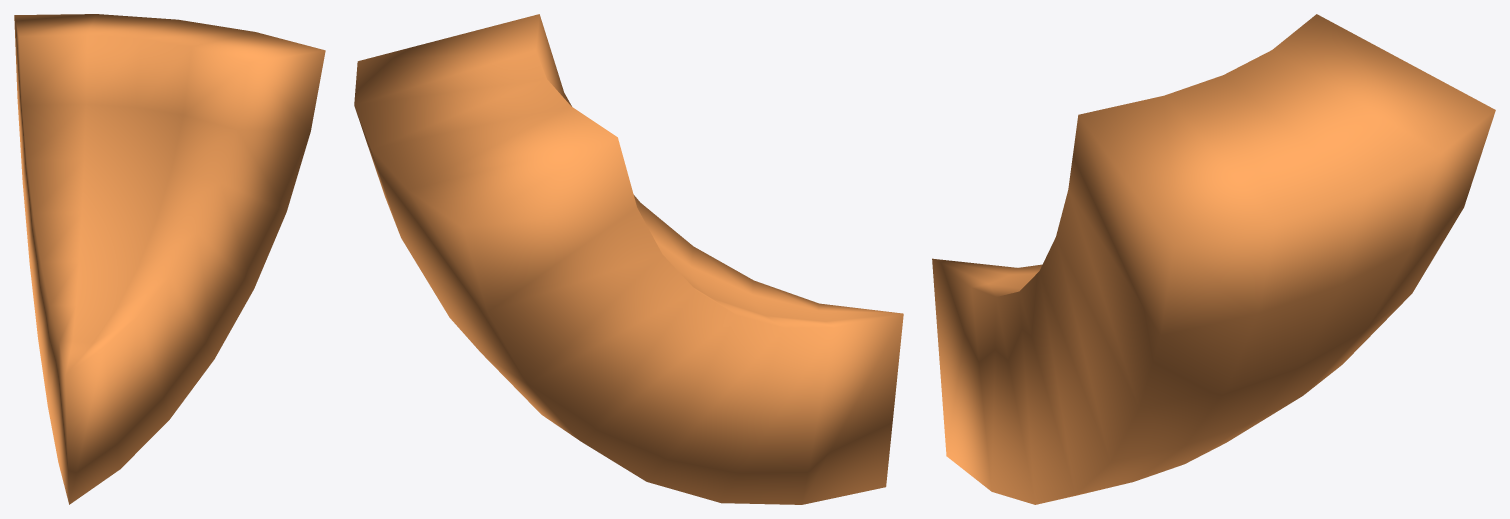
The model's file is 哈密瓜.glb.
The picture shows the model from 3 angles, left to right: view 1: azimuth 30°, elevation 25°; view 2: azimuth 150°, elevation 25°; view 3: azimuth 270°, elevation 25°; orthographic projection. The views are drawn at different scales.
Visible parts, largest first — view 1: 球体.001; view 2: 球体.001; view 3: 球体.001.
Part boxes in pixels (<box>): 球体.001: <box>14,14,325,504</box>; 球体.001: <box>354,14,903,504</box>; 球体.001: <box>932,14,1495,504</box>.
Bounding box in the file's own units: 0.9299 × 0.9065 × 0.9299.
